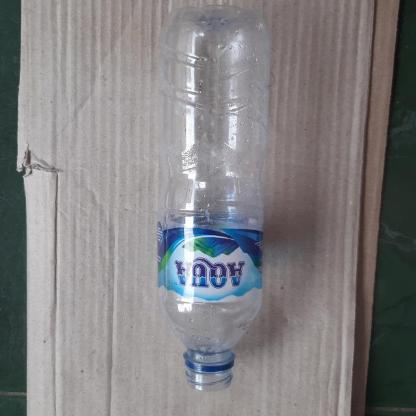Plastic Bottle: (160, 5, 276, 400)
